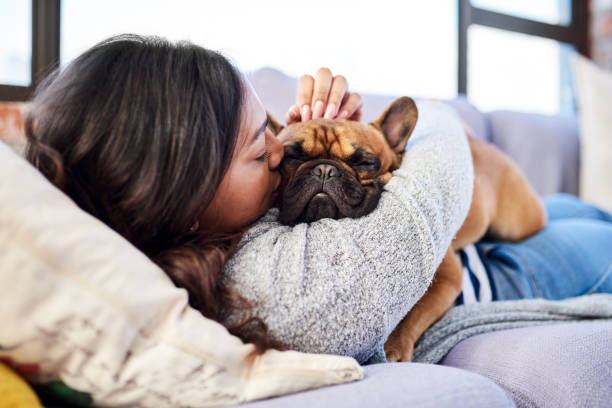without mask: (210, 71, 283, 229)
